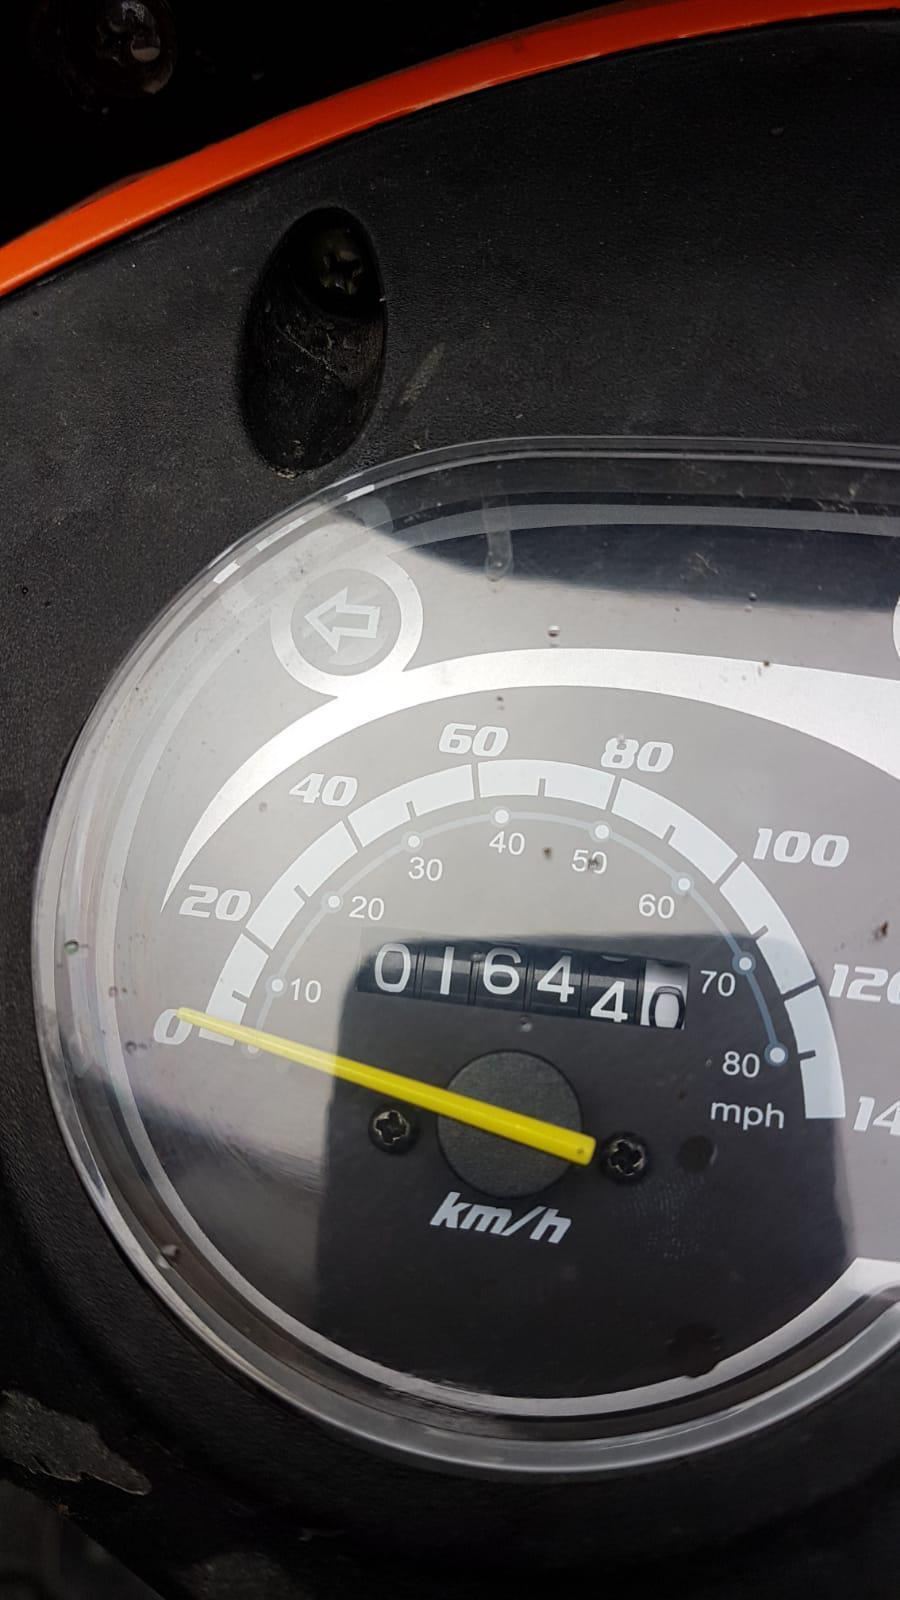0: (370, 938, 413, 997), (645, 977, 690, 1032)
1: (433, 938, 458, 1000)
4: (588, 974, 634, 1027), (535, 952, 577, 1007)
6: (480, 944, 524, 1001)
odometer: (348, 916, 695, 1036)
